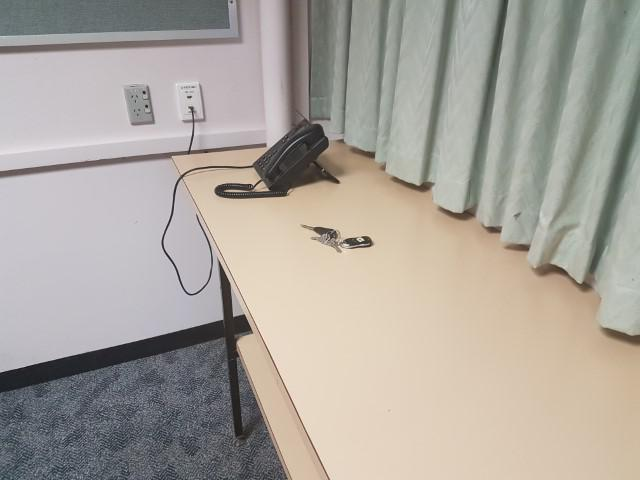key: (302, 224, 338, 239)
